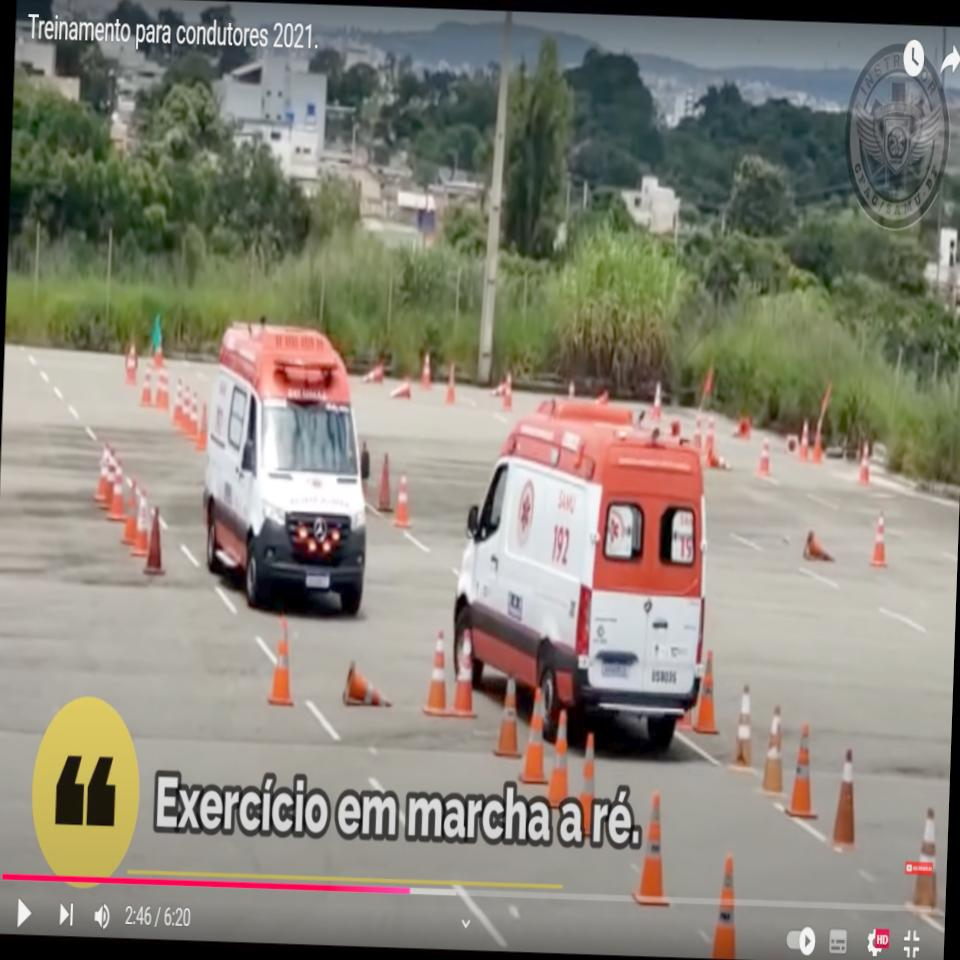bombeiro: (447, 396, 715, 756), (199, 316, 378, 618)
